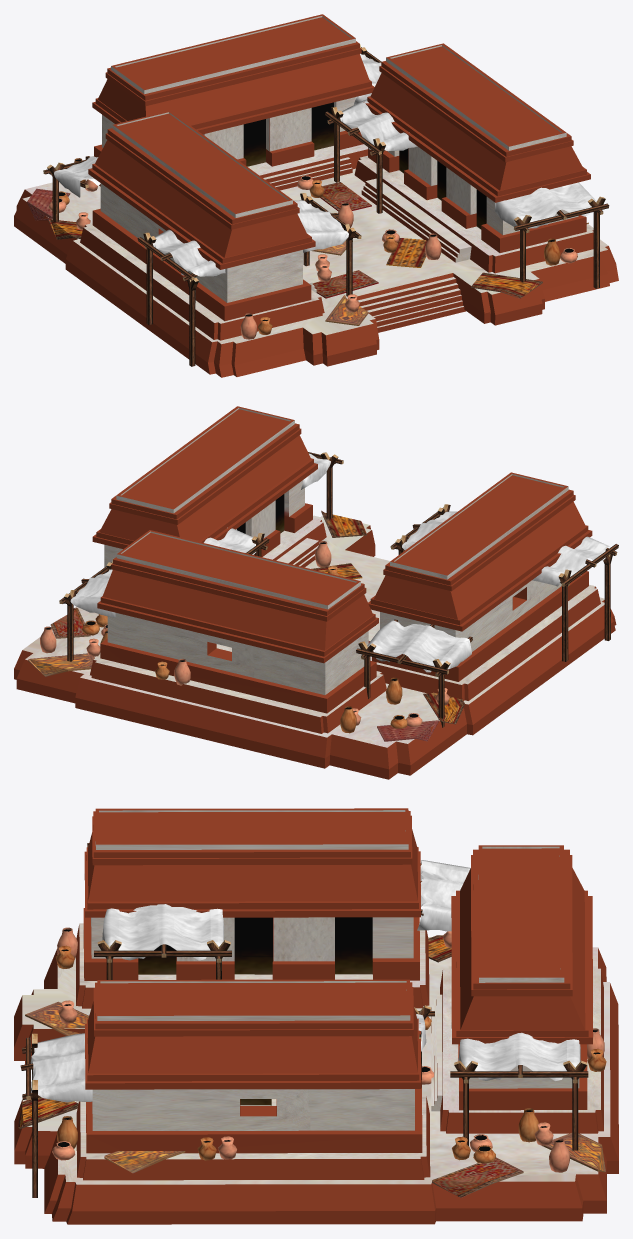
Rendered from plaza_e1.dae.
3 views of the same model, one above another, from view 1: azimuth 30°, elevation 25°; view 2: azimuth 150°, elevation 25°; view 3: azimuth 270°, elevation 25° (orthographic). The views are drawn at different scales.
Visible parts, largest first — view 1: plaza_e1; view 2: plaza_e1; view 3: plaza_e1.
Part boxes in pixels (x1,y1,x2,y2): plaza_e1: (14, 14, 618, 377); plaza_e1: (14, 406, 618, 779); plaza_e1: (14, 808, 618, 1224).
Size of the model in its own units: 26.78 by 25.98 by 8.84.
